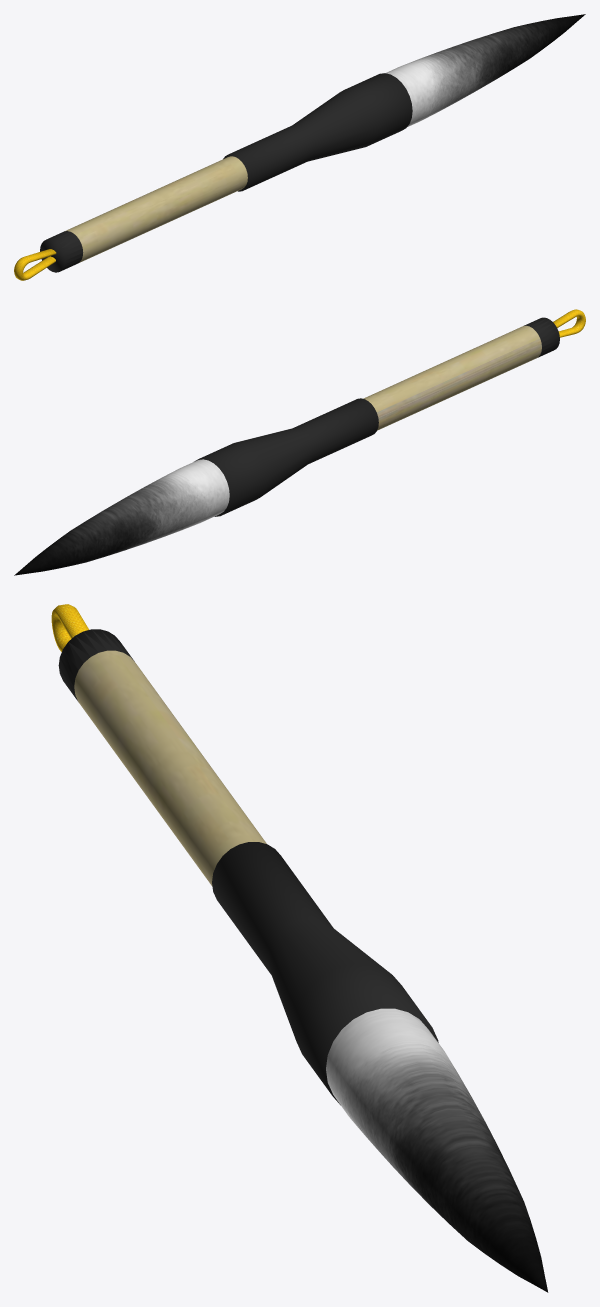
Rendered from brush.FBX.
3 views of the same model, one above another, from view 1: azimuth 30°, elevation 25°; view 2: azimuth 210°, elevation 25°; view 3: azimuth 270°, elevation 25° (orthographic). The views are drawn at different scales.
Visible parts, largest first — view 1: brush; view 2: brush; view 3: brush.
Part boxes in pixels (x1,y1,x2,y2): brush: (14,14,585,280); brush: (14,309,585,575); brush: (51,604,548,1292).
Bounding box in the file's own units: 3.81 × 0.2942 × 1.18.
